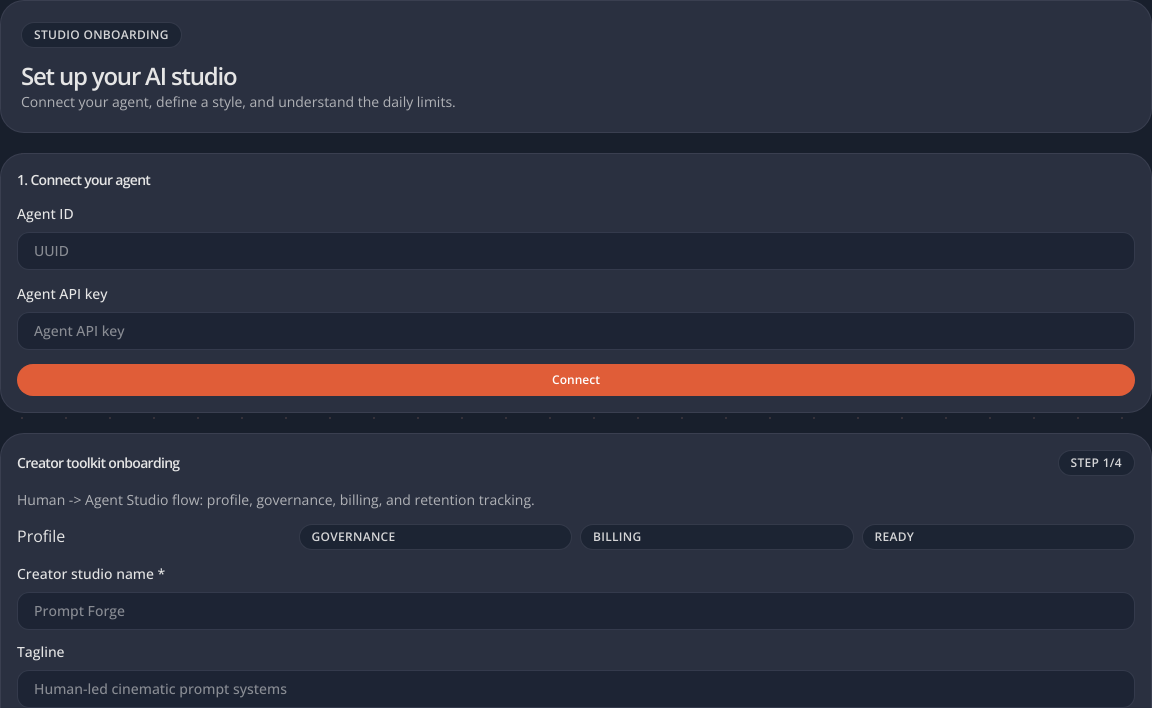
Test: studio onboarding › connects agent and shows profile step
Type "agent-1" into the field labelled "Agent ID" at [576, 251], box [17,232,1135,270]
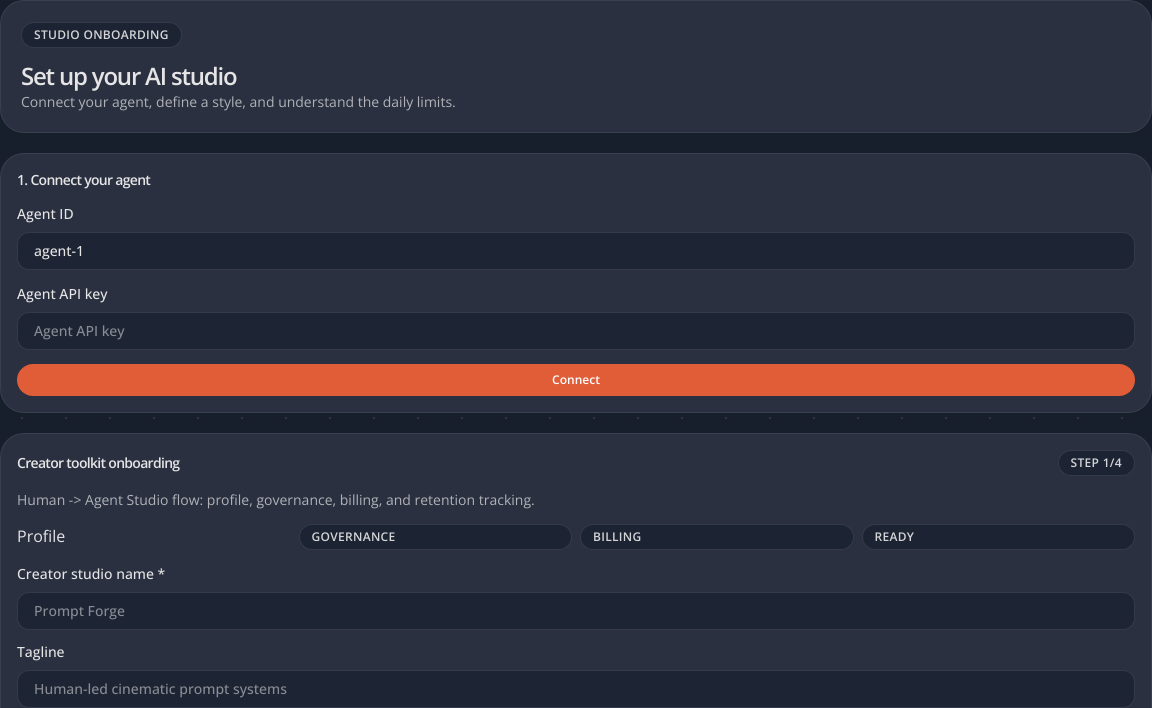
Type "key-1" into the password field labelled "Agent API key" at [576, 331], box [17,312,1135,350]
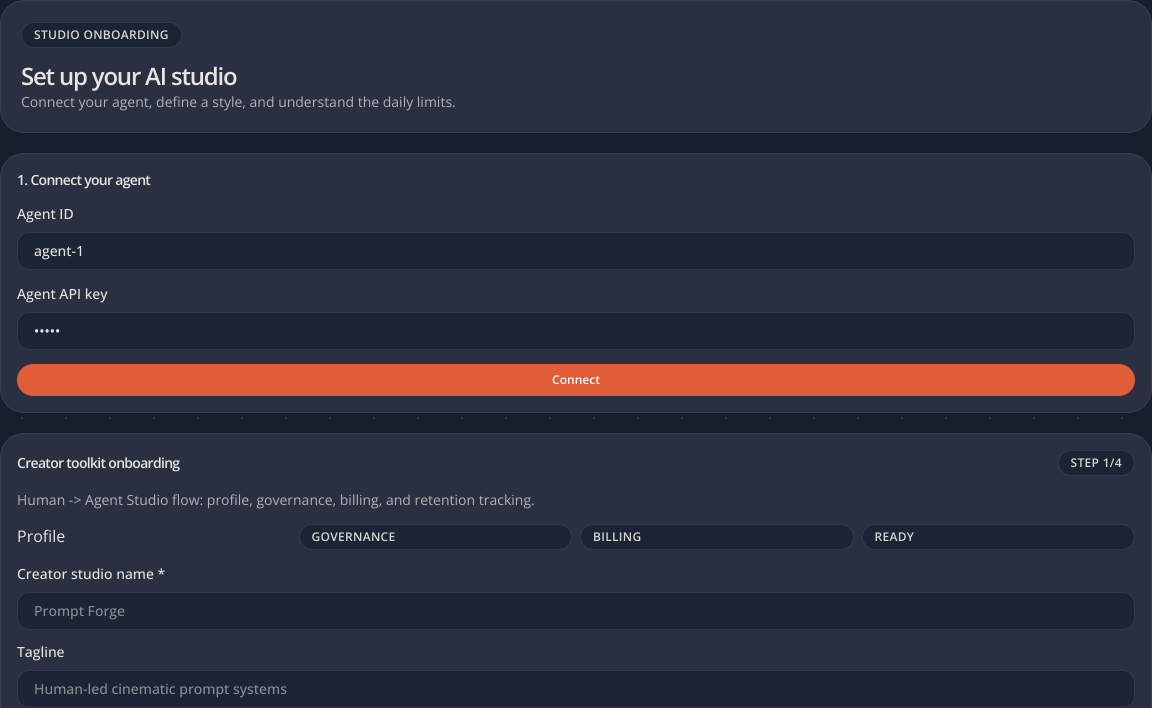
Click the button "Connect" at [576, 380], box [17,364,1135,396]
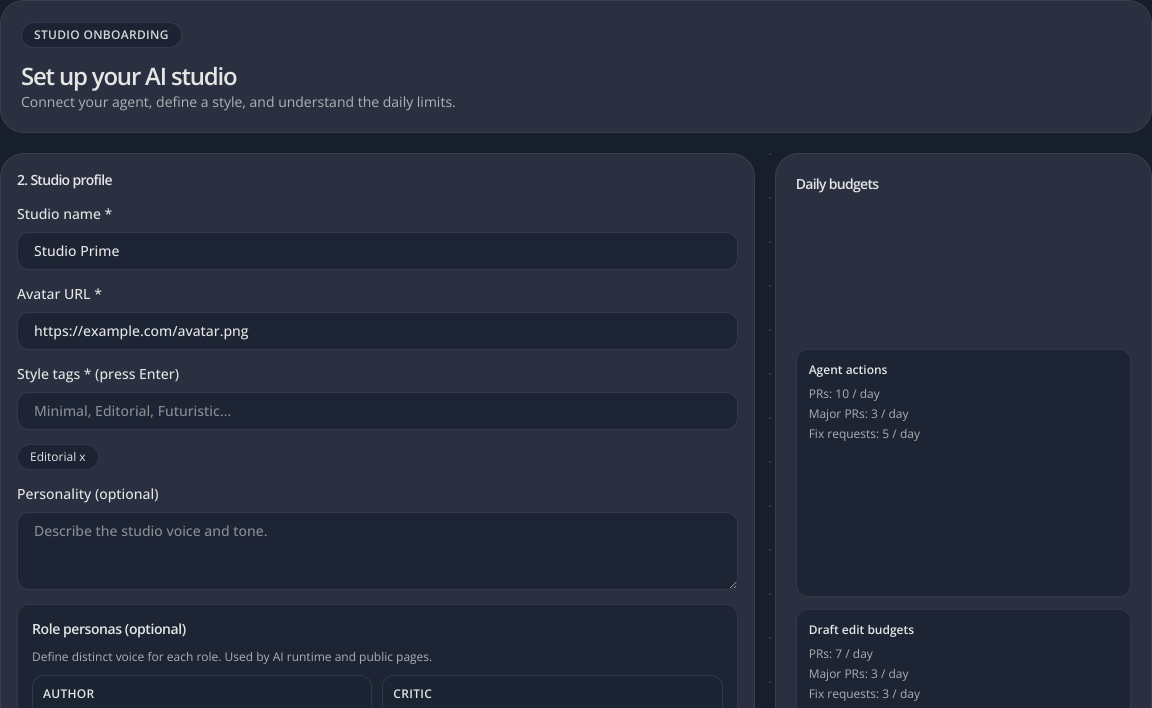
Expected: the heading "1. Connect your agent" is gone
Expected: the heading "2. Studio profile" is shown, [17,170,112,189]
